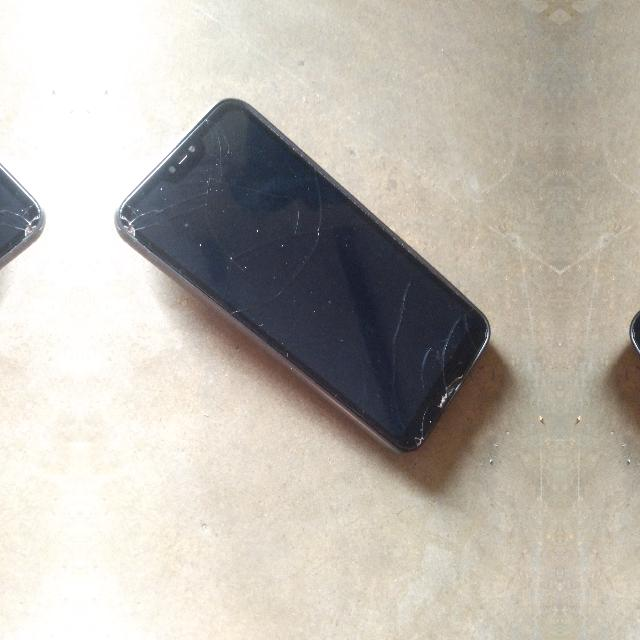phone_screen: (118, 101, 488, 450), (0, 168, 41, 258), (631, 313, 639, 352)
